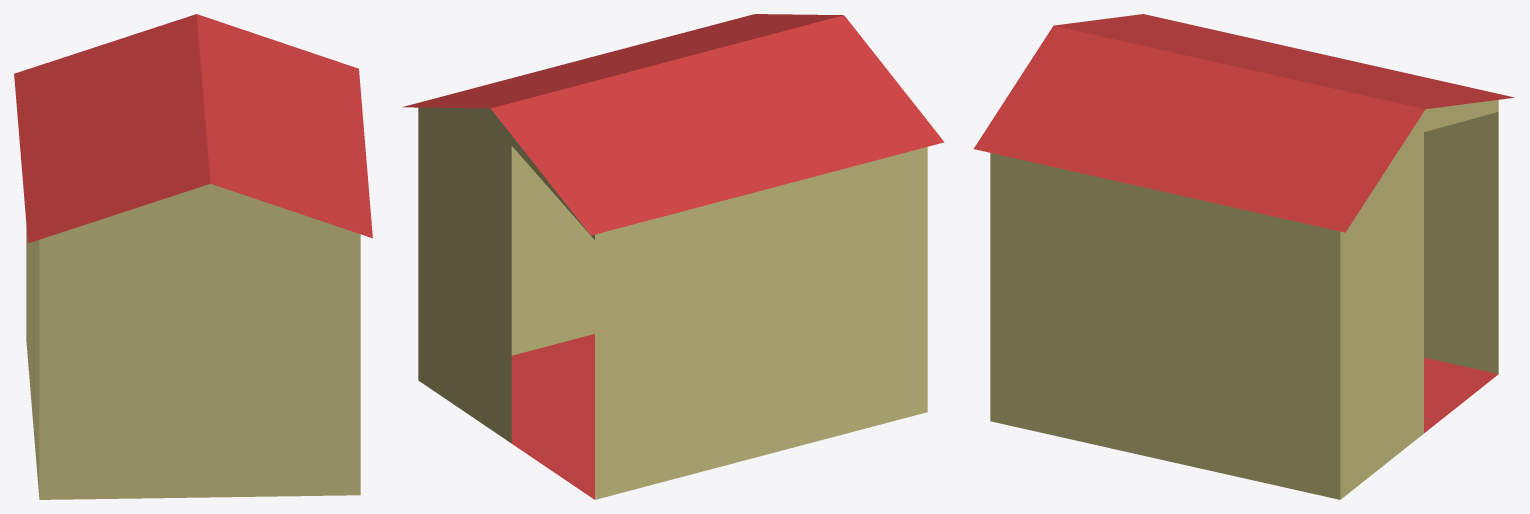
3 views of the same model, side by side, from view 1: azimuth 30°, elevation 25°; view 2: azimuth 150°, elevation 25°; view 3: azimuth 270°, elevation 25° (orthographic). The views are drawn at different scales.
Size of the model in its own units: 10.4 by 10.9 by 7.41.
